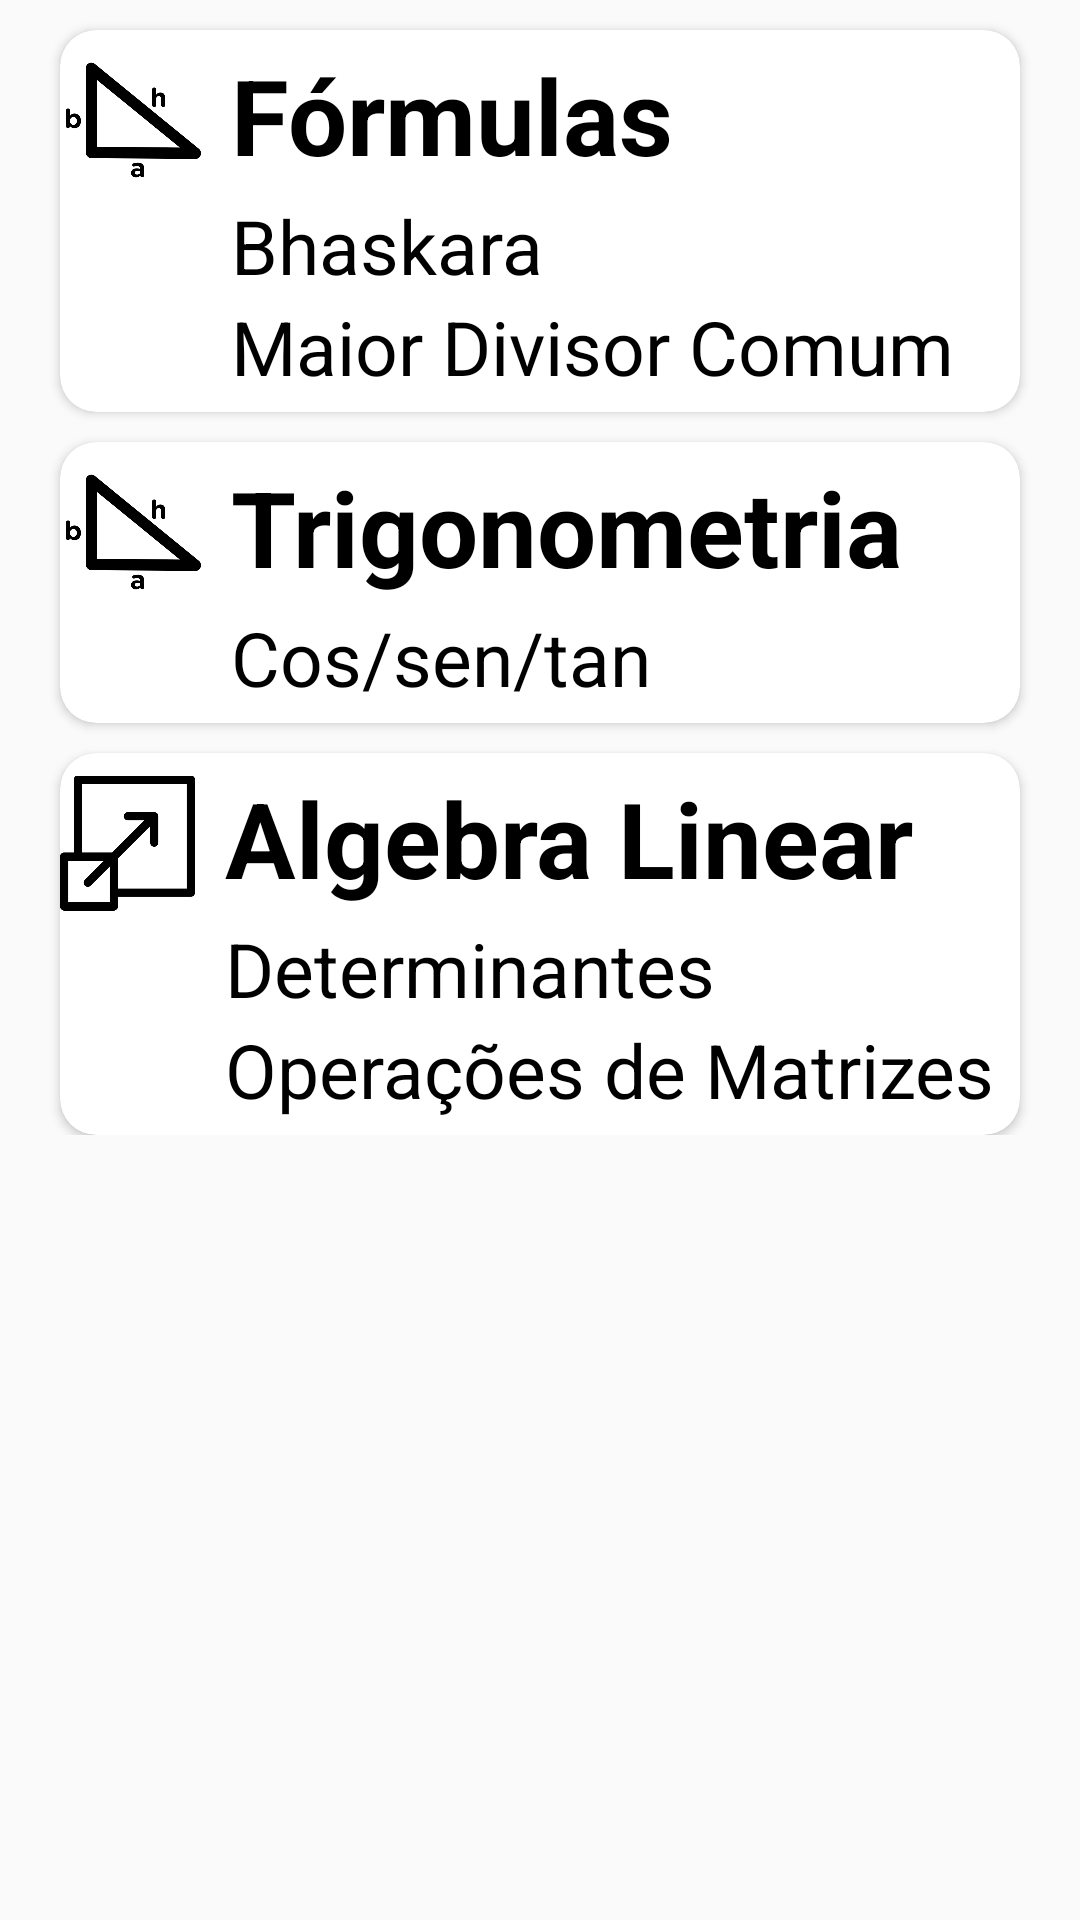

Where icons sit on this 1080px x 1920px app screen, as {"x1": x1, "y1": y1, "x2": x2, "y2": y2}:
trigonometry: {"x1": 66, "y1": 62, "x2": 201, "y2": 178}, {"x1": 66, "y1": 474, "x2": 201, "y2": 590}
